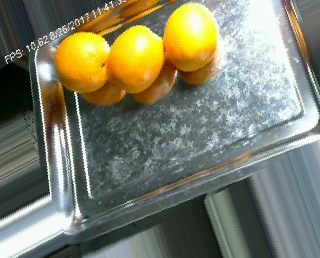Orange: (162, 1, 219, 72), (108, 24, 166, 92), (53, 31, 110, 92)
